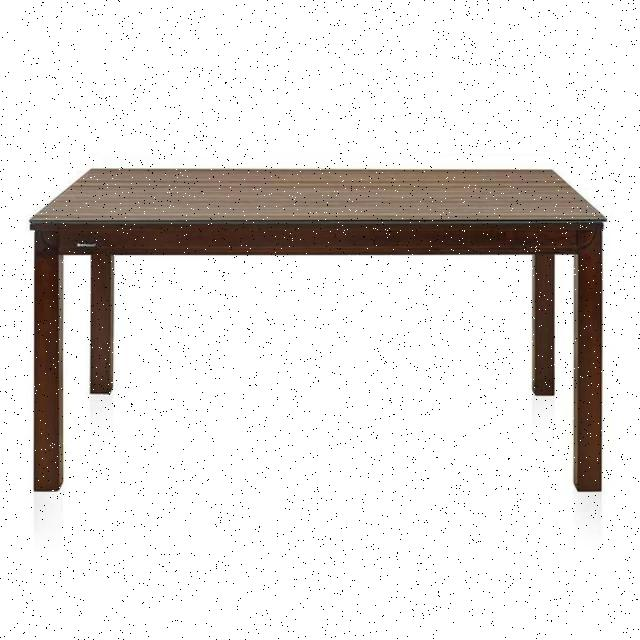mobile-phone: (28, 164, 607, 500)
